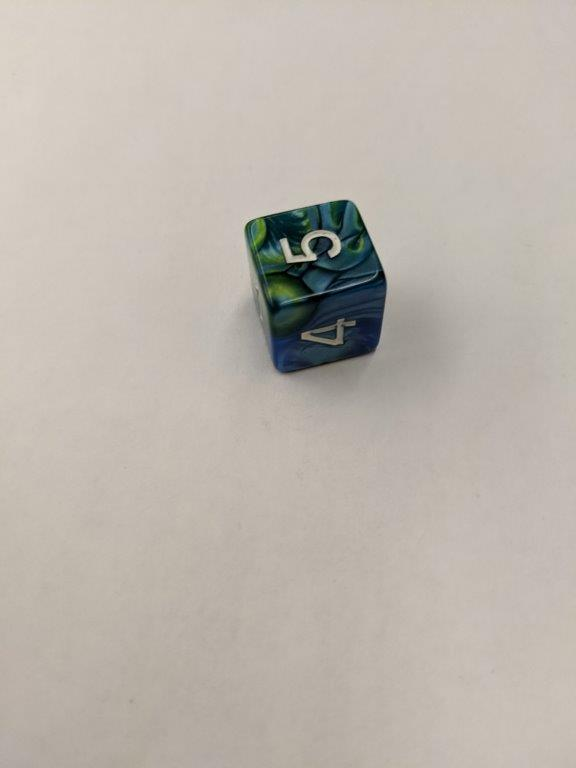d6-5: (244, 197, 392, 379)
